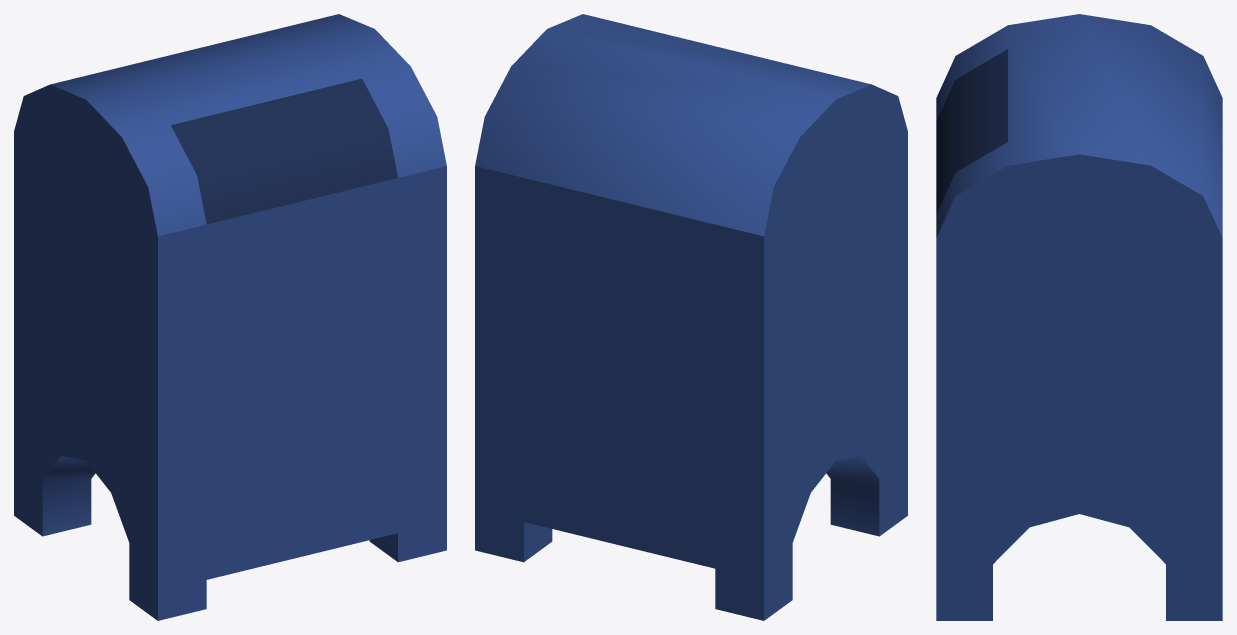
The model's file is postcontainer_1.fbx.
The picture shows the model from 3 angles, left to right: view 1: azimuth 30°, elevation 25°; view 2: azimuth 150°, elevation 25°; view 3: azimuth 270°, elevation 25°; orthographic projection.
Parts seen in each view (by area): view 1: postcontainer_1; view 2: postcontainer_1; view 3: postcontainer_1.
Boxes of the visible parts, <box> form: postcontainer_1: <box>14,14,446,620</box>; postcontainer_1: <box>475,14,907,620</box>; postcontainer_1: <box>936,14,1222,620</box>.
Bounding box in the file's own units: 67.33 × 104 × 58.03.
